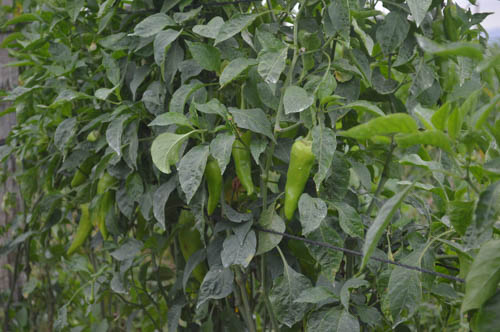ChiliPepper: (283, 141, 315, 219), (177, 217, 209, 281), (65, 202, 96, 256), (94, 176, 119, 239), (202, 161, 226, 219), (233, 132, 254, 194)
